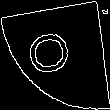O_E: (30, 30, 80, 80)
